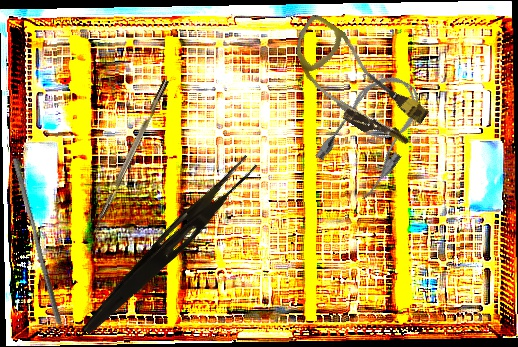Cannula: (273, 11, 440, 157), (310, 62, 438, 204)
Chopper: (87, 78, 177, 242)
Dressing Forceps: (78, 148, 260, 344)
Pusher: (5, 156, 70, 327)
